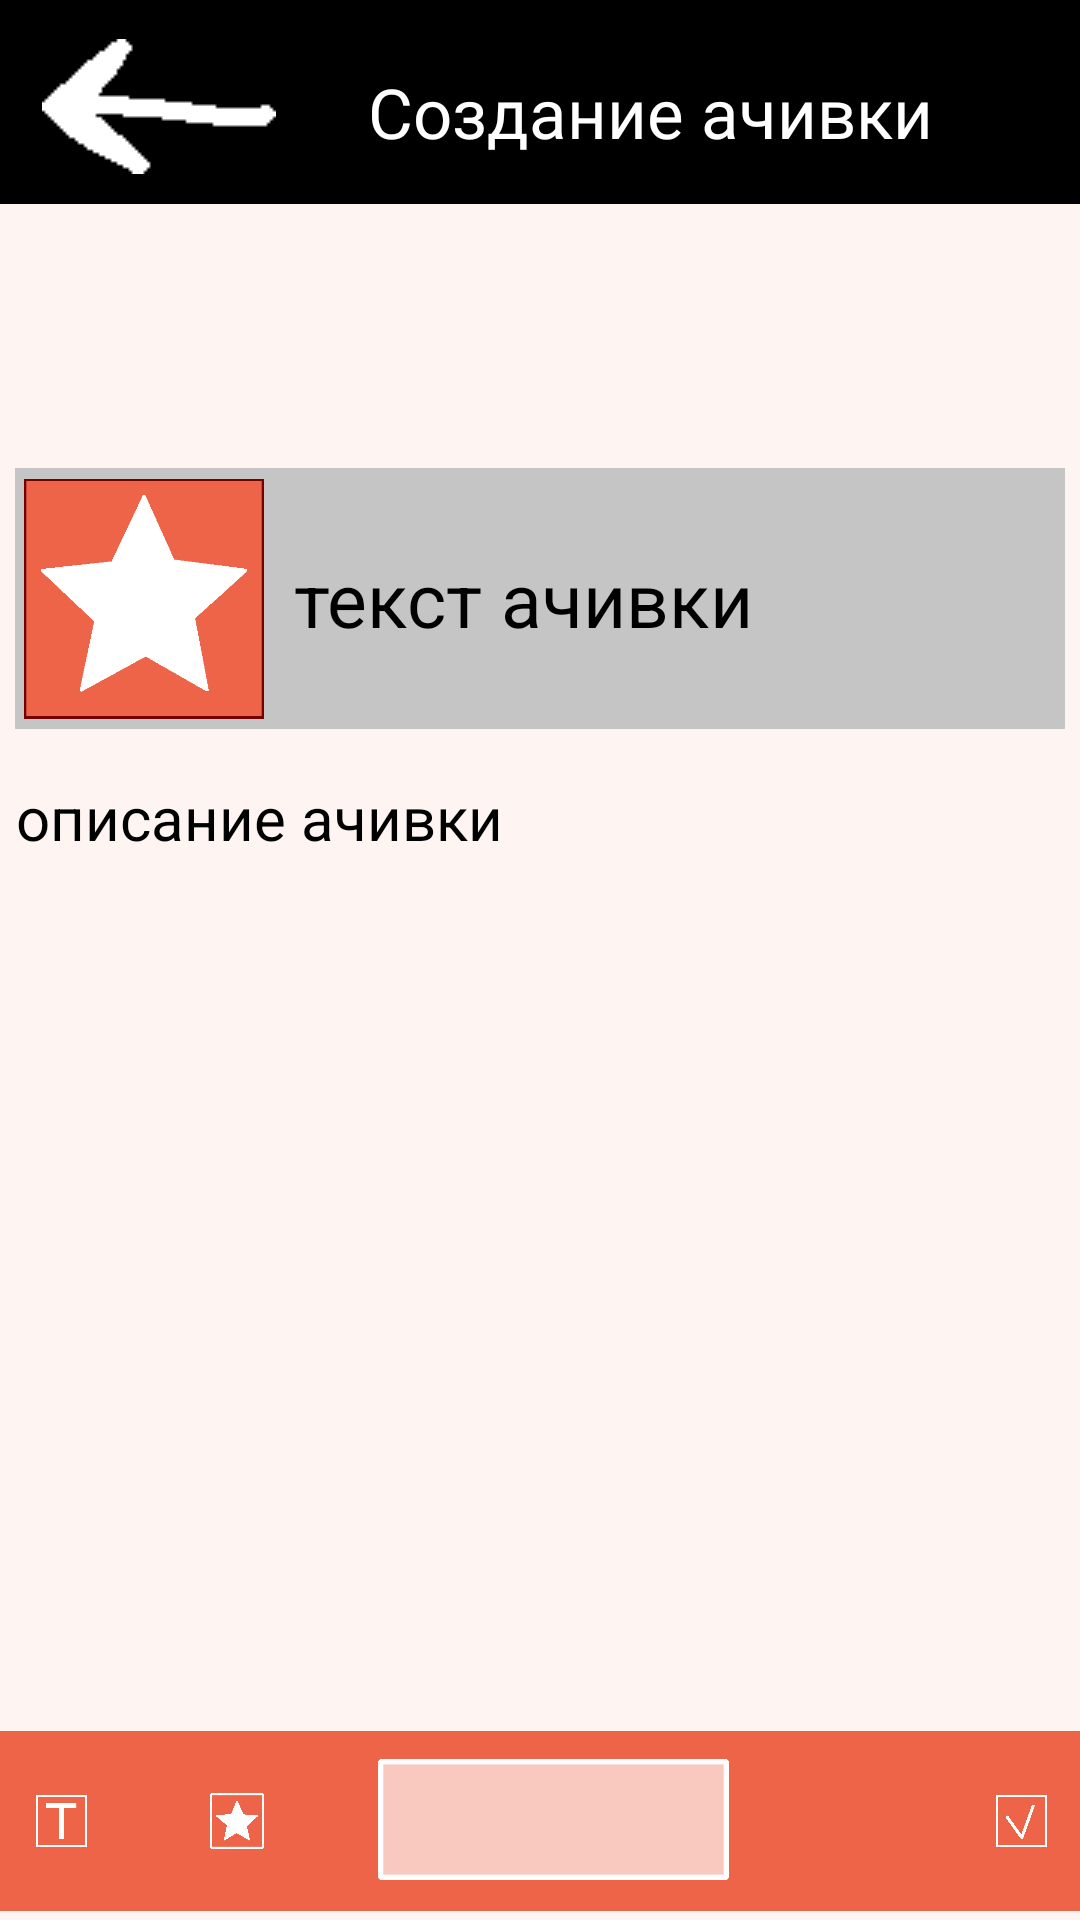

Named icons in this screenshot (1080x1920) and their centers, [x,y]:
arrow back: [159,106]
